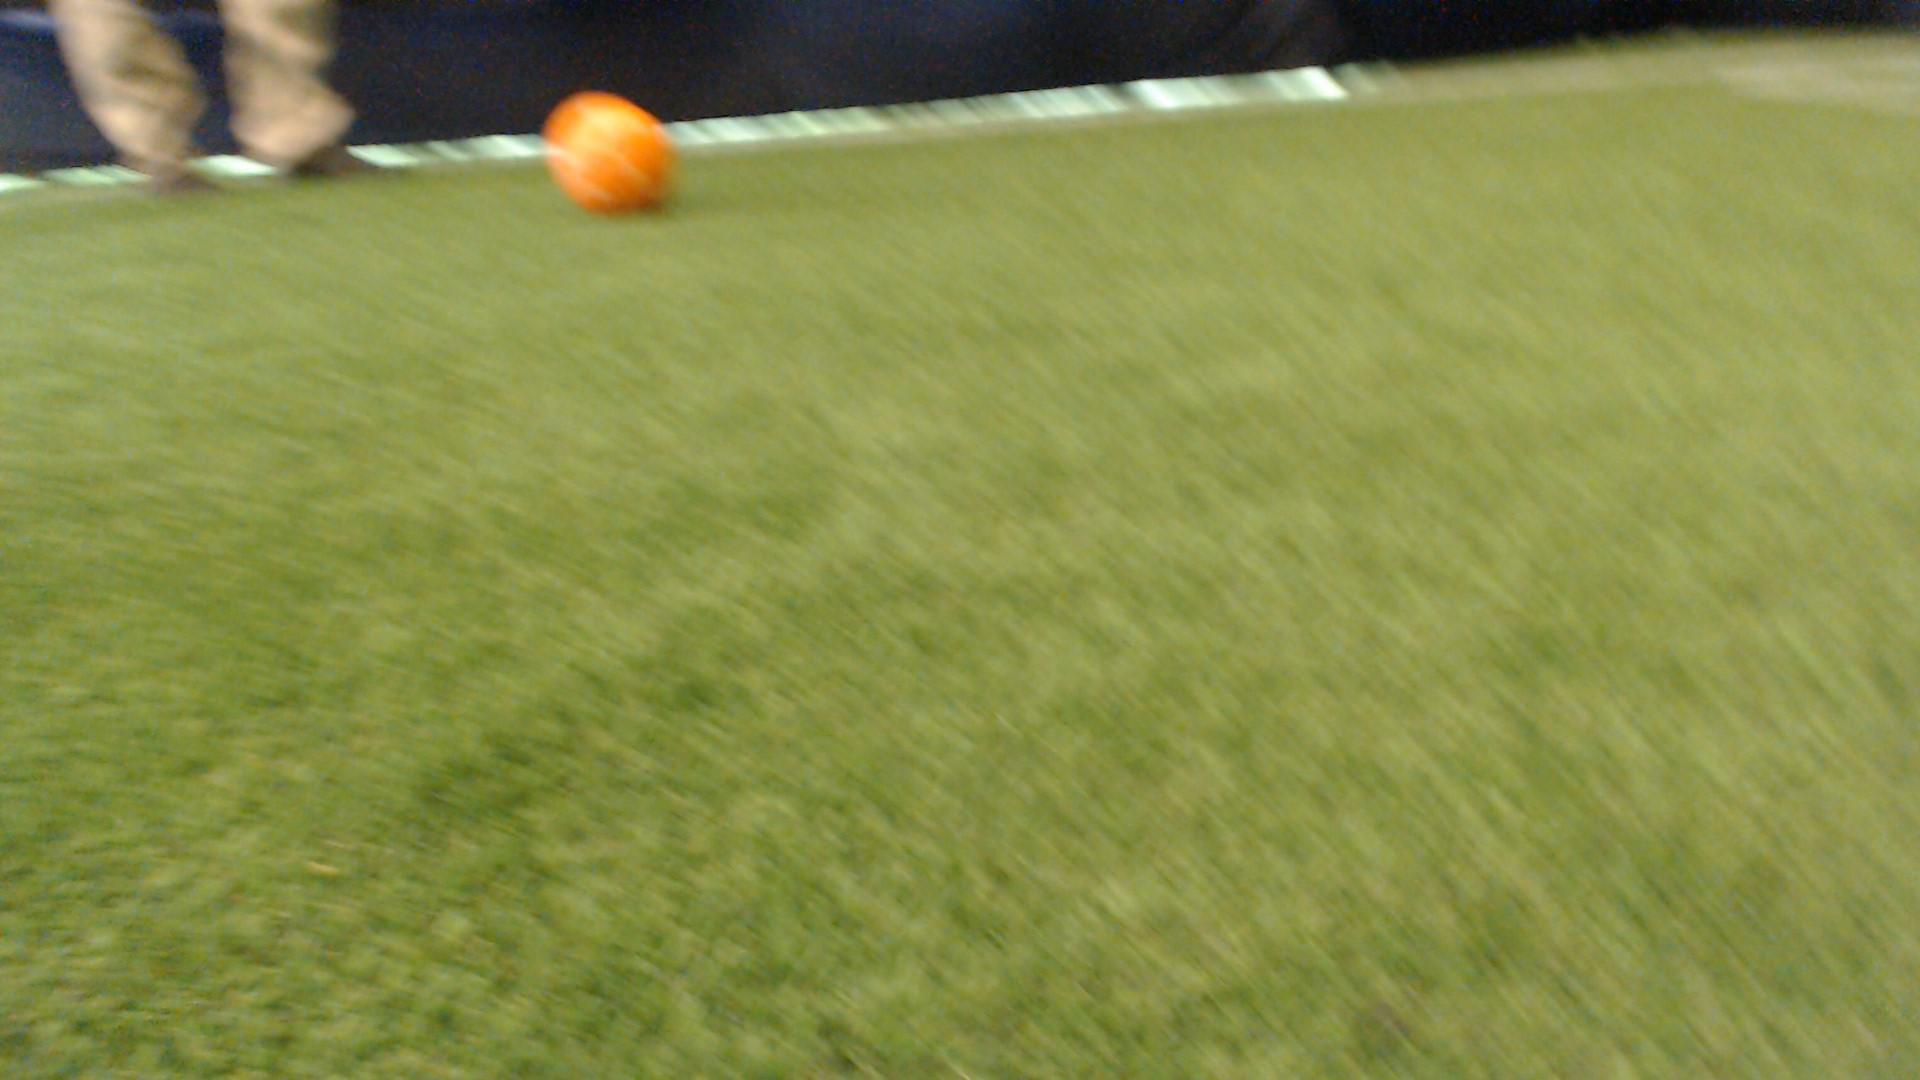bola: (526, 70, 690, 240)
